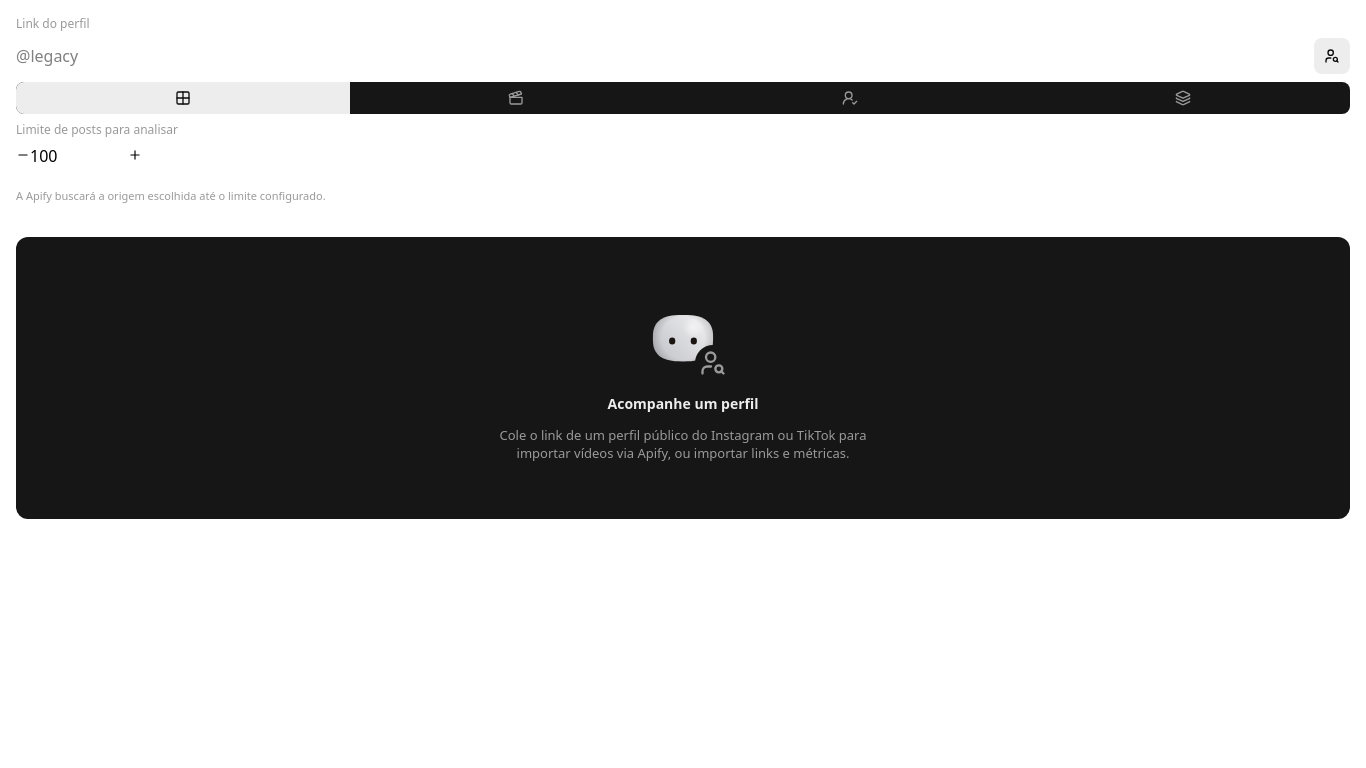
ProfilesPage › mostra erro de URL inválida
Type "https://evil.com/x" into the field labelled "Link do perfil" at (661, 56), box [16, 38, 1306, 74]
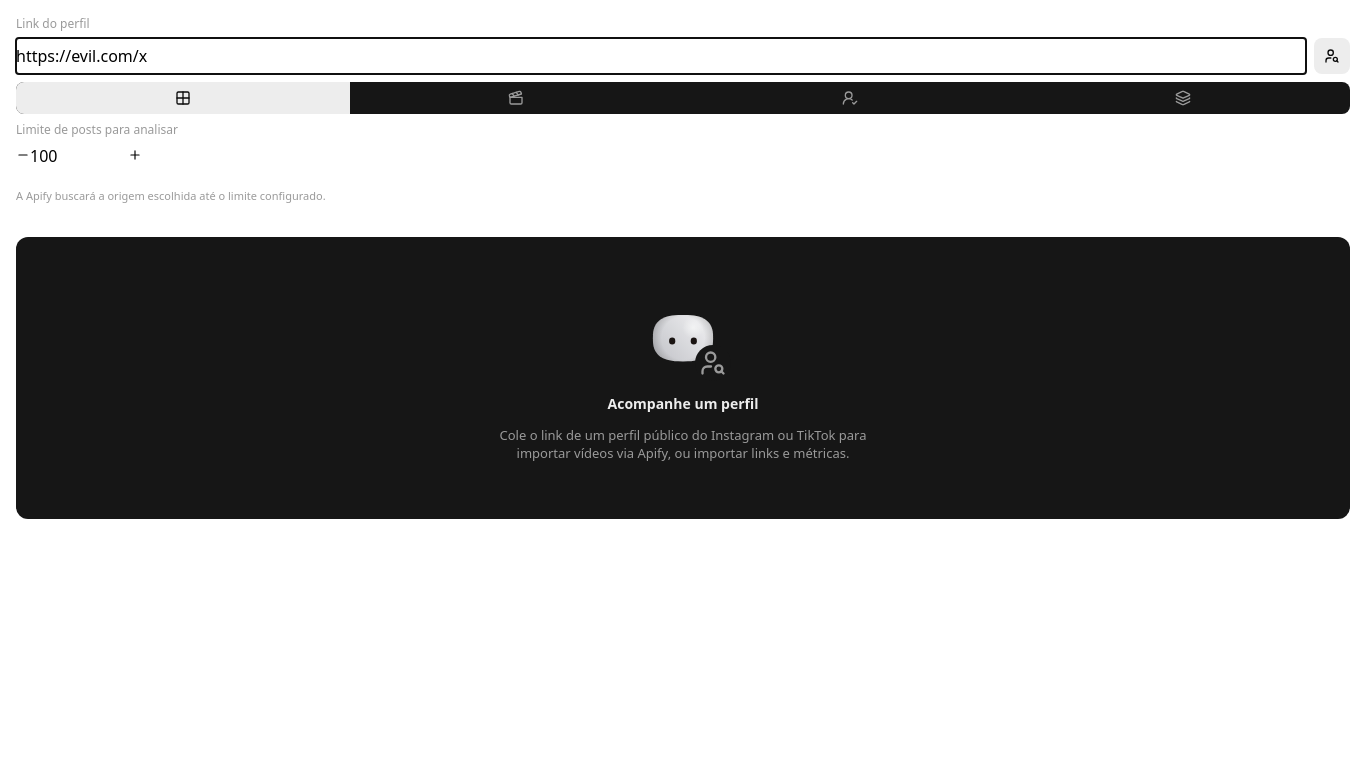
Click the button named "Importar perfil" at (1332, 56), box [1314, 38, 1350, 74]
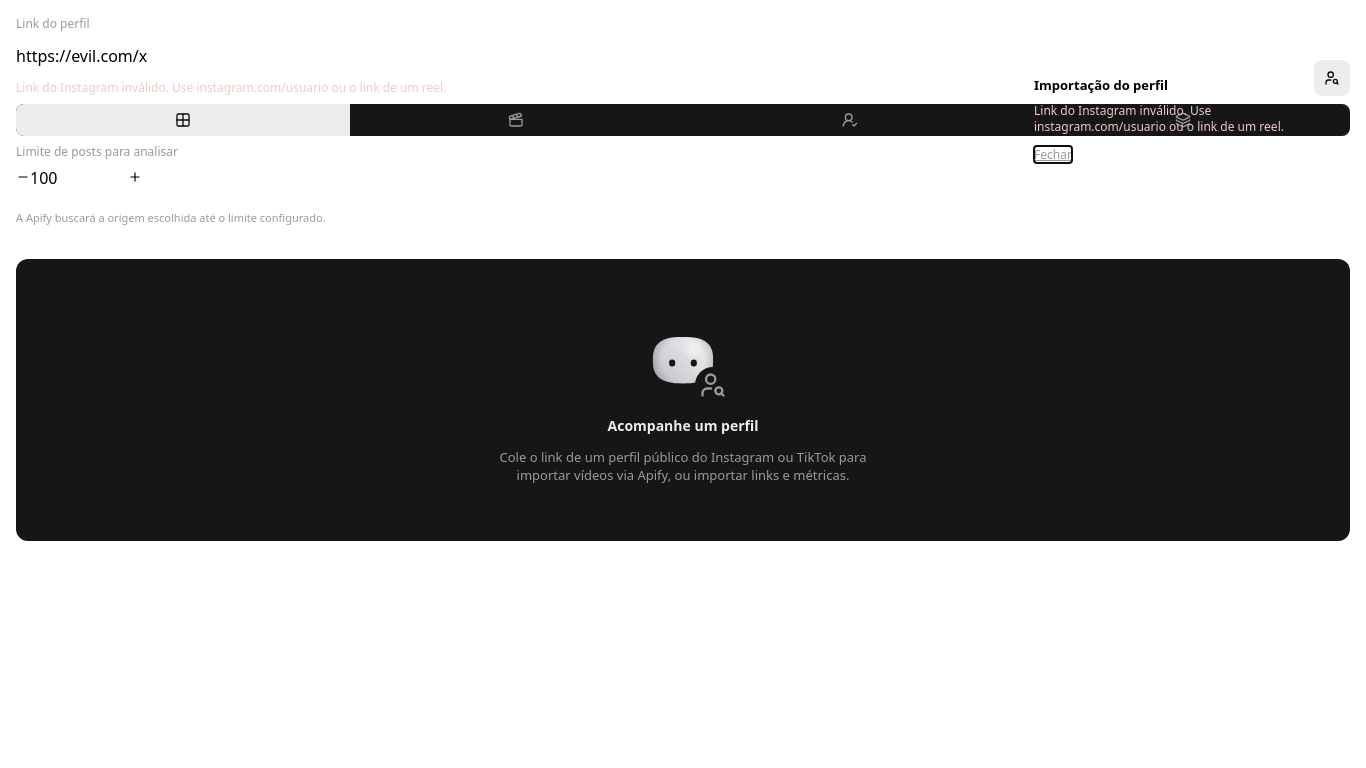
Expected: the text "Link do Instagram inválido" is shown, [16, 79, 446, 96]
